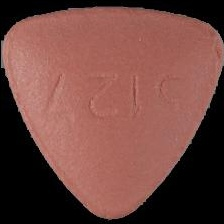54868-5204: (0, 0, 224, 224)
